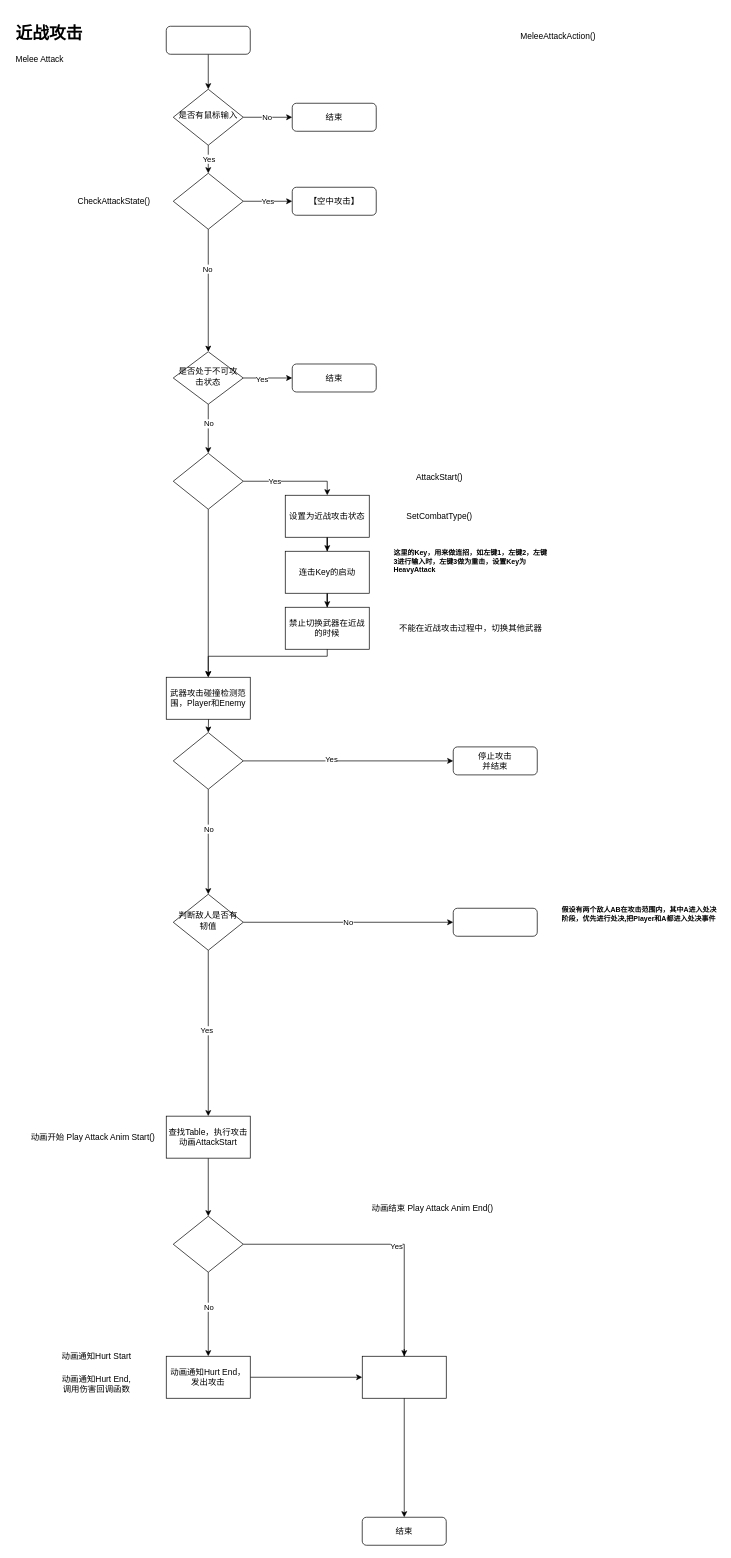
This 731x1558 diagram has some shape labels left out. Here are the shapes that lost their labels. From the top down, the centre of each, then its label:
At (208,40): "开始".
At (208,201): "是否在空中".
At (208,481): "判断是否是近战武器".
At (208,760): "判断是否有障碍物".
At (495,922): "进入处决事件".
At (208,1244): "攻击过程预备阶段中是否受到打断".
At (404,1377): "攻击动画End，状态恢复成默认状态，清除TimerLine，更新Key为LightAttack".
